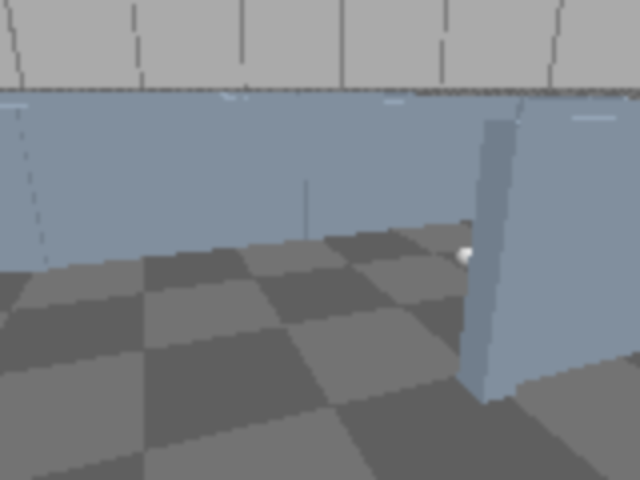puck: (454, 242, 482, 273)
